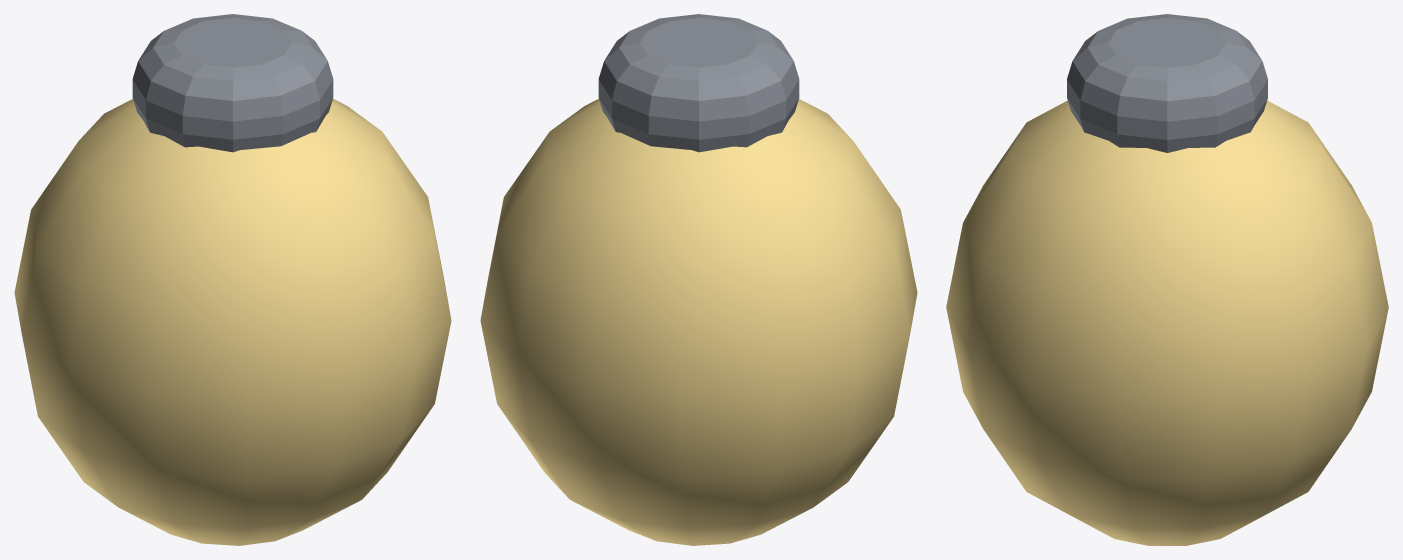
Rendered from LightPoint.fbx.
3 renders of one model, left to right at view 1: azimuth 30°, elevation 25°; view 2: azimuth 150°, elevation 25°; view 3: azimuth 270°, elevation 25°, orthographic.
Parts seen in each view (by area): view 1: LightPoint; view 2: LightPoint; view 3: LightPoint.
Boxes of the visible parts, x1,y1,x2,y2 form: LightPoint: (14, 14, 451, 545); LightPoint: (480, 14, 917, 545); LightPoint: (946, 14, 1388, 545).
Bounding box in the file's own units: 0.2145 × 0.266 × 0.22.
